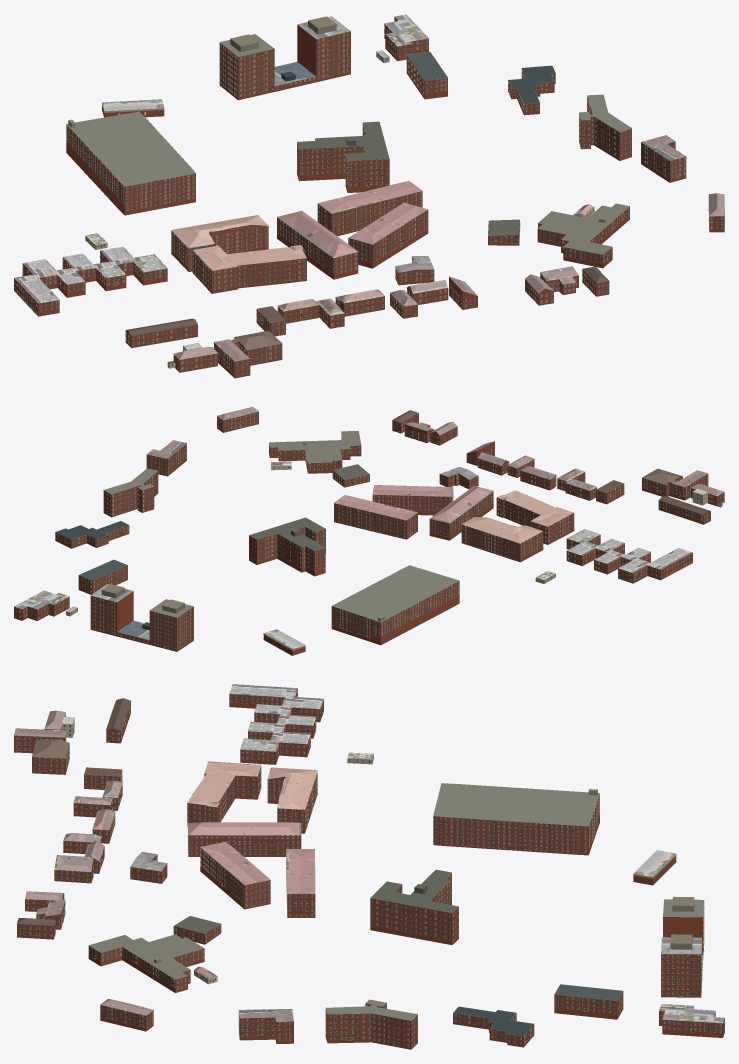
3 views of the same model, one above another, from view 1: azimuth 30°, elevation 25°; view 2: azimuth 150°, elevation 25°; view 3: azimuth 270°, elevation 25° (orthographic). The views are drawn at different scales.
Visible parts, largest first — view 1: -4_-1_188498492_0, -4_-1_188826906_6; view 2: -4_-1_188498492_0, -4_-1_188826906_6; view 3: -4_-1_188498492_0, -4_-1_188826906_6.
Boxes of the visible parts, x1,y1,x2,y2 form: -4_-1_188498492_0: (14,14,724,378); -4_-1_188826906_6: (67,34,631,363); -4_-1_188498492_0: (14,407,724,655); -4_-1_188826906_6: (56,410,721,622); -4_-1_188498492_0: (14,684,724,1049); -4_-1_188826906_6: (17,698,703,1036).
Size of the model in its own units: 566 by 49.29 by 526.
Materials: 18 (1 with a texture image).
